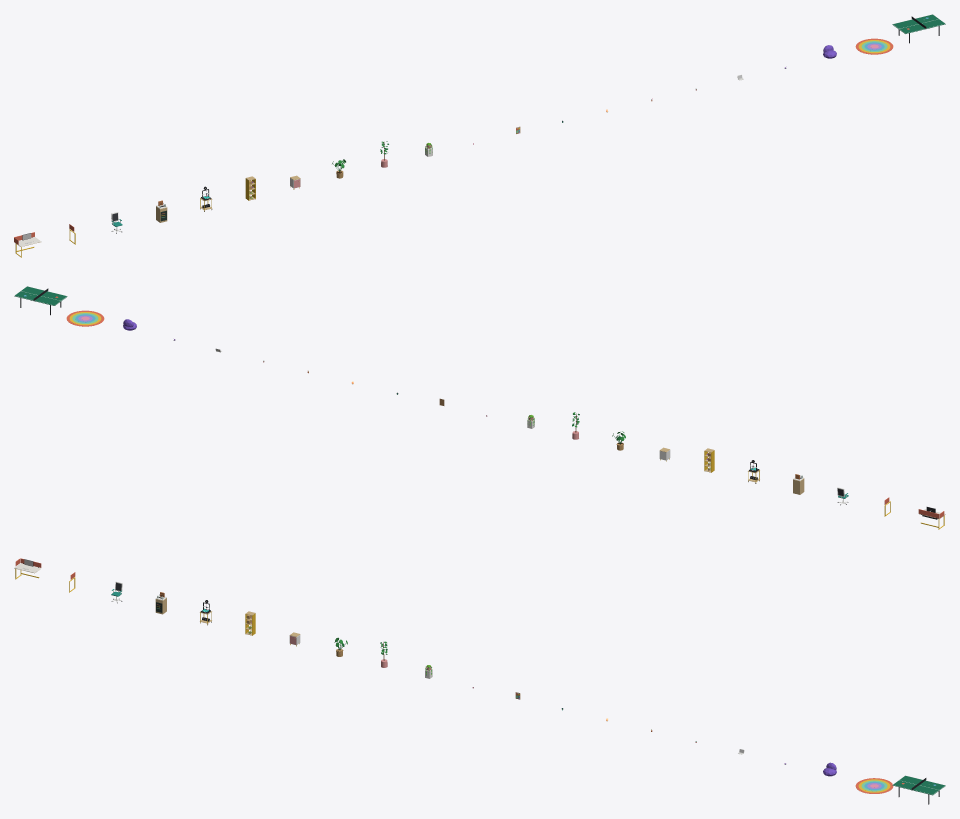
File: OfficeStartup.glb
3 views of the same model, one above another, from view 1: azimuth 30°, elevation 25°; view 2: azimuth 150°, elevation 25°; view 3: azimuth 330°, elevation 25° (orthographic).
Parts seen in each view (by area): view 1: PingPong; view 2: PingPong; view 3: PingPong.
Boxes of the visible parts, x1,y1,x2,y2 form: PingPong: [892, 14, 945, 43]; PingPong: [14, 286, 67, 315]; PingPong: [892, 775, 945, 804].
Size of the model in its own units: 310 by 8.1 by 11.
